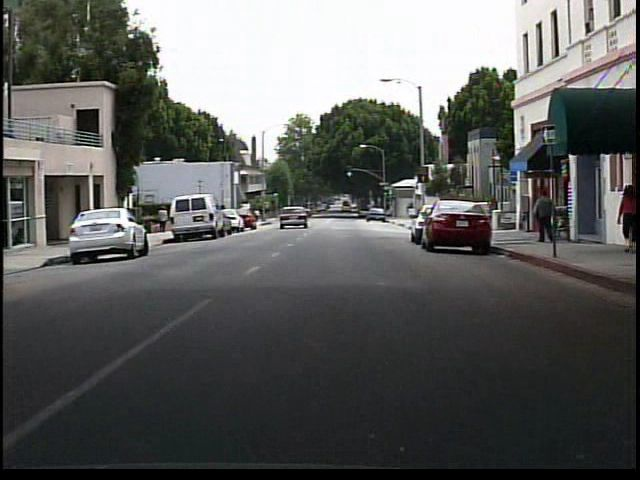person: (528, 188, 559, 247), (612, 185, 639, 252), (155, 203, 172, 234)
